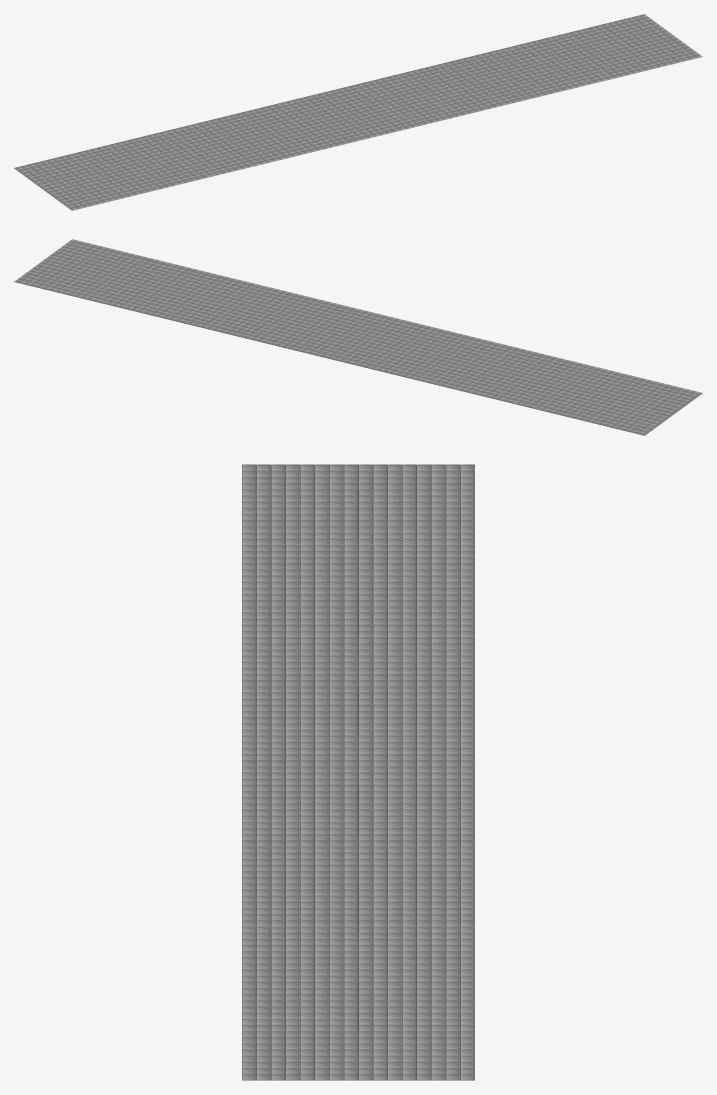
File: plates.obj
3 views of the same model, one above another, from view 1: azimuth 30°, elevation 25°; view 2: azimuth 150°, elevation 25°; view 3: azimuth 270°, elevation 25° (orthographic). The views are drawn at different scales.
Visible parts, largest first — view 1: Cube.447_Cube.001; view 2: Cube.447_Cube.001; view 3: Cube.447_Cube.001.
Boxes of the visible parts, x1,y1,x2,y2 form: Cube.447_Cube.001: (14, 14, 702, 210); Cube.447_Cube.001: (14, 239, 702, 435); Cube.447_Cube.001: (242, 464, 474, 1080).
Size of the model in its own units: 200 by 0.1 by 32.
Materials: 1 (1 with a texture image).
